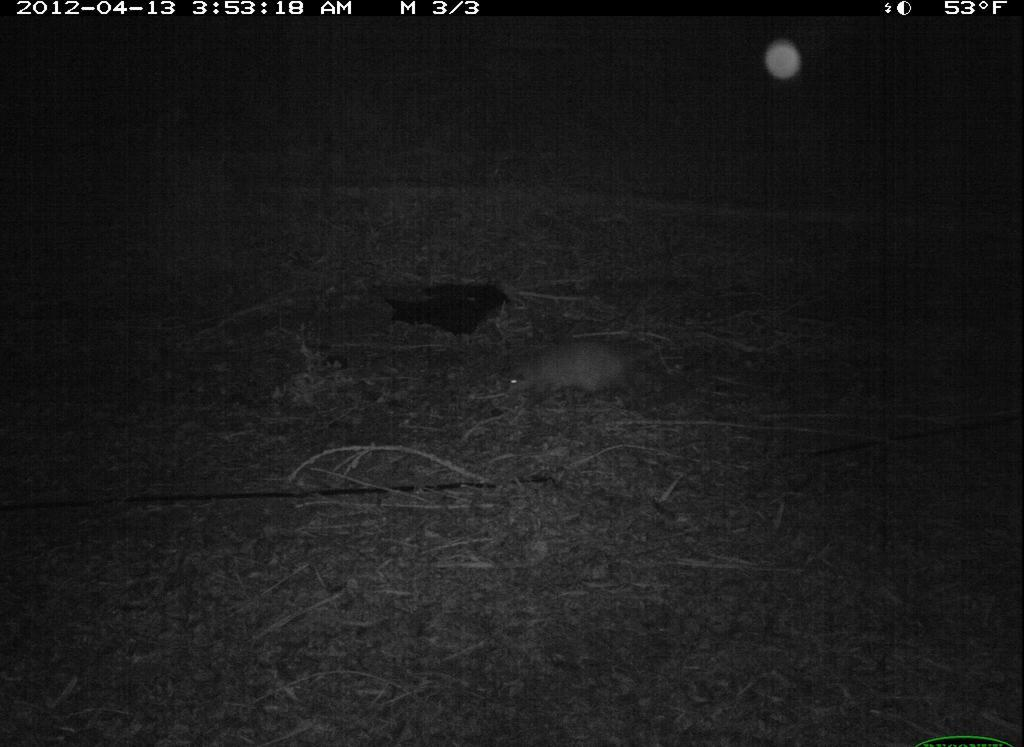opossum: (493, 333, 676, 428)
